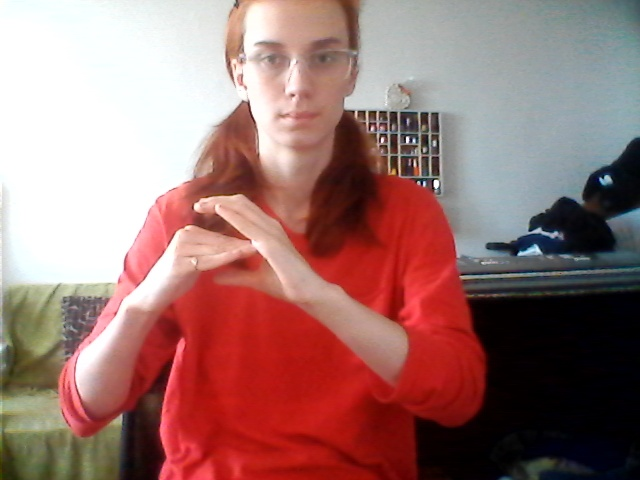e: (149, 188, 318, 310)
